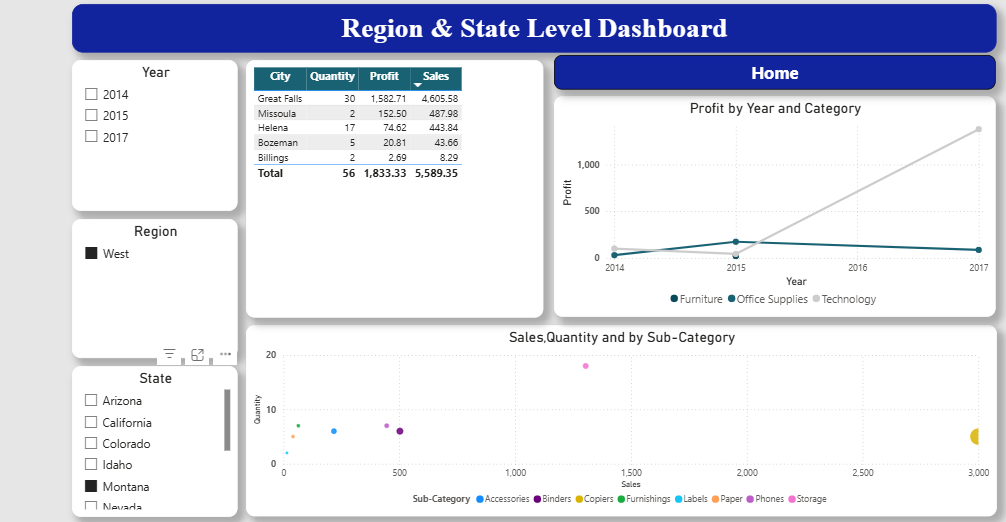

What the dashboard file says about the page in this screenshot:
{"tool":"powerbi","page":{"name":"Region","canvas":[1280,720],"ordinal":1},"visuals":[{"type":"textbox","box":[11.8,11.8,1256.5,65.5],"z":0},{"type":"slicer","title":"Year","fields":{"Values":["Orders.Year"]},"box":[11.7,87.8,225.4,204.9],"z":1000},{"type":"slicer","title":"Region","fields":{"Values":["Orders.Region"]},"box":[11.7,304.4,225.4,188.8],"z":2000},{"type":"slicer","title":"State","fields":{"Values":["Orders.State"]},"box":[11.7,503.4,225.4,204.9],"z":3000},{"type":"scatterChart","title":"Sales,Quantity and by Sub-Category","fields":{"X":["Sum(Orders.Sales)"],"Y":["Sum(Orders.Quantity)"],"Series":["Orders.Sub-Category"],"Size":["Sum(Orders.Profit)"]},"box":[248.8,447.8,1020,260.5],"z":4000},{"type":"tableEx","fields":{"Values":["Orders.City","Sum(Orders.Quantity)","Sum(Orders.Profit)","Sum(Orders.Sales)"]},"box":[248.8,87.8,403.9,349.8],"z":5000},{"type":"lineChart","fields":{"Category":["Orders.Year"],"Y":["Sum(Orders.Profit)"],"Series":["Orders.Category"]},"box":[667.3,137.6,600,300],"z":6000},{"type":"actionButton","box":[667.3,82,600,46.8],"z":7000}]}

Visuals, with their boxes in screenshot pixels (x1, y1, x2, y2):
textbox: (66,1,997,49)
"Year" slicer: (66,57,233,209)
"Region" slicer: (66,217,233,357)
"State" slicer: (66,365,233,517)
"Sales,Quantity and by Sub-Category" scatterChart: (242,324,997,517)
tableEx - Orders.City x Sum(Orders.Quantity): (242,57,541,316)
lineChart - Orders.Year x Sum(Orders.Profit): (552,94,996,316)
actionButton: (552,53,996,87)
